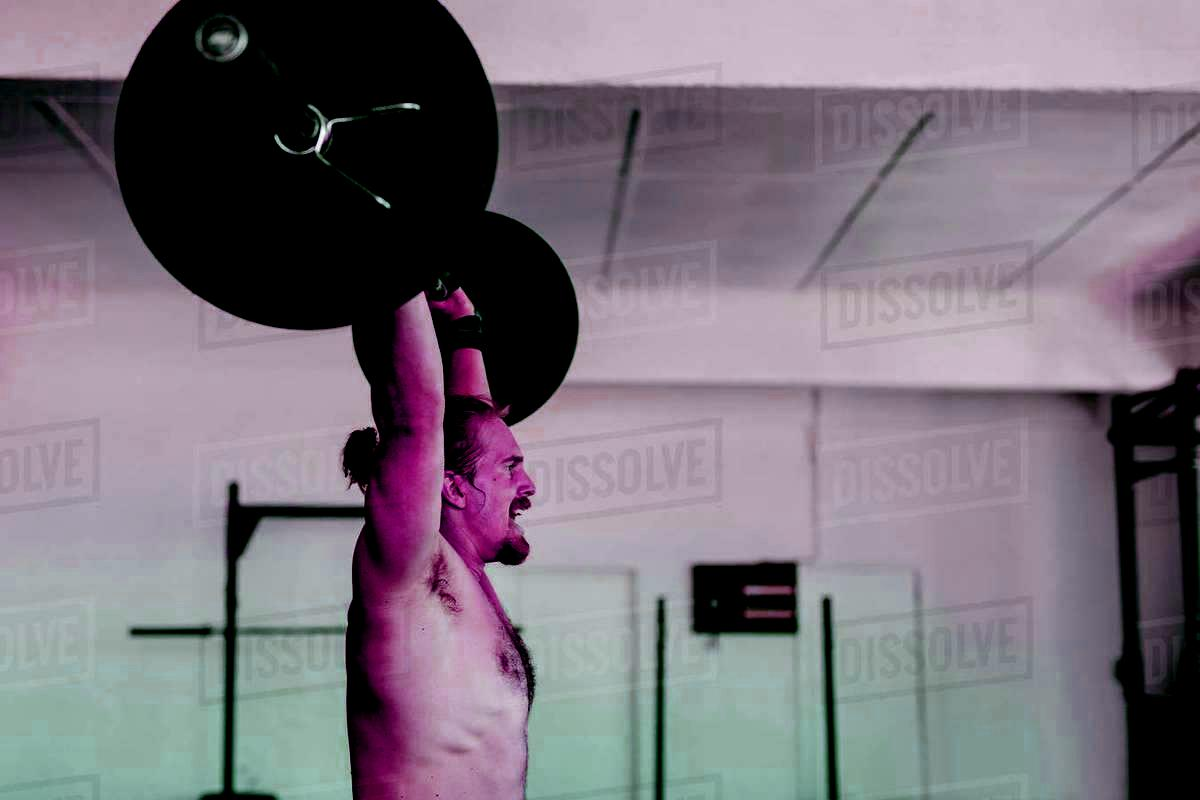Barbell: (191, 5, 247, 68)
